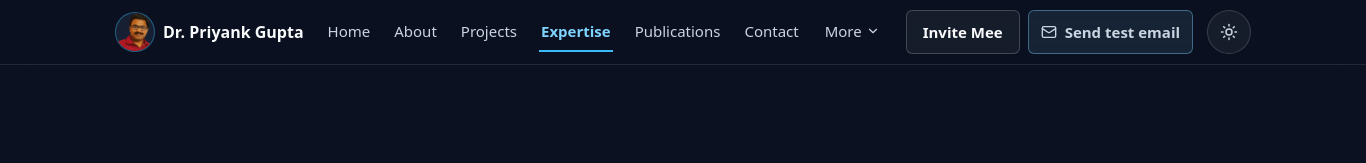
shows and sends the local test email only when enabled
Click the button "Send test email".
click(1110, 32)  # box [1028, 10, 1193, 54]
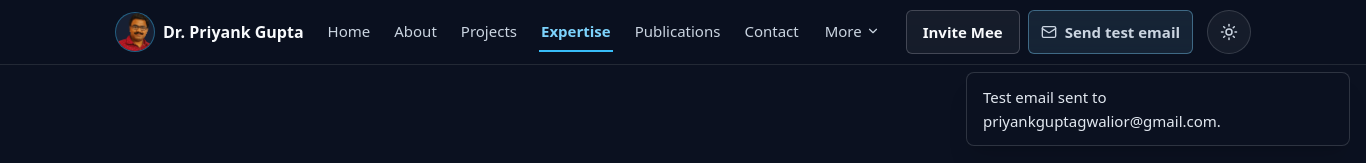
expect the message reads "Test email sent to priyankguptagwalior@gmail.com.": met, box [983, 87, 1221, 131]
